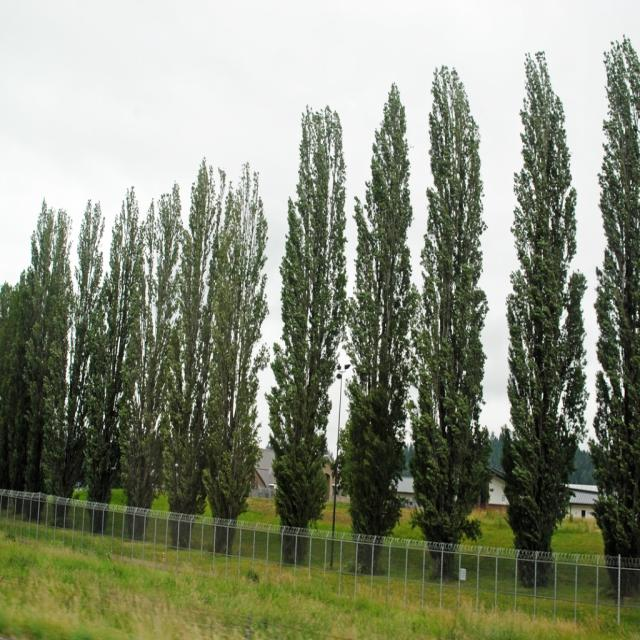Populus nigra: (502, 54, 582, 585), (412, 66, 492, 580), (415, 56, 483, 585), (275, 94, 347, 566), (206, 162, 270, 542), (119, 209, 172, 536), (168, 161, 202, 551)
